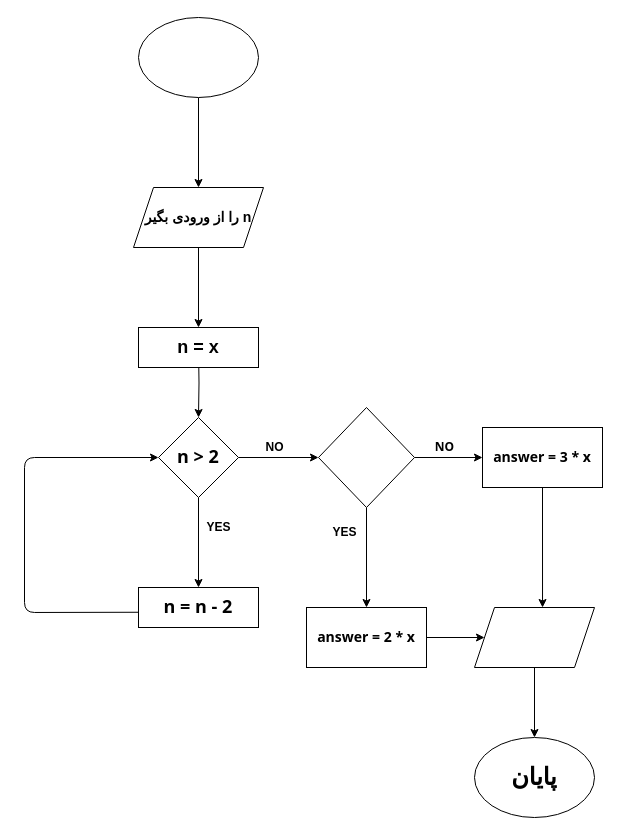
This 620x835 diagram has some shape labels left out. The shapes that lost their labels are listed below. From the top down, each one's centre as x and y in pixels, then its label:
pixel 198 57: شروع
pixel 366 457: n == 0
pixel 534 637: را نشان بده answer
